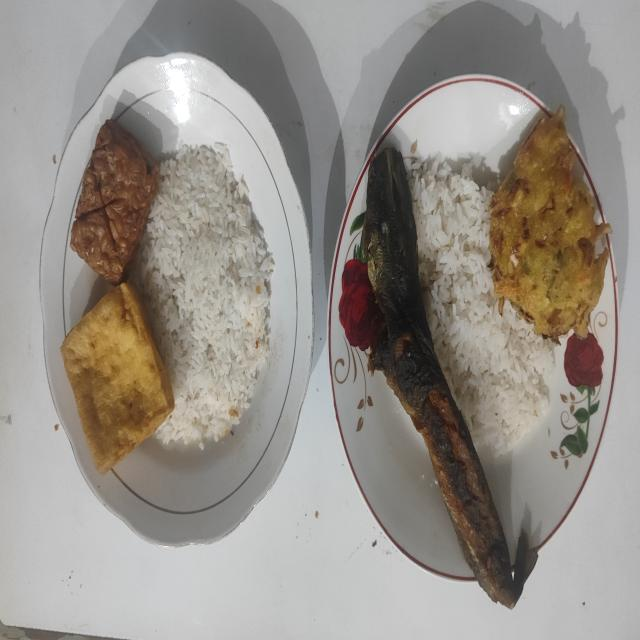nasi_putih: (406, 160, 556, 454), (140, 143, 274, 449)
tahu_goreng: (60, 283, 174, 474)
tempe_goreng: (70, 120, 159, 285)
